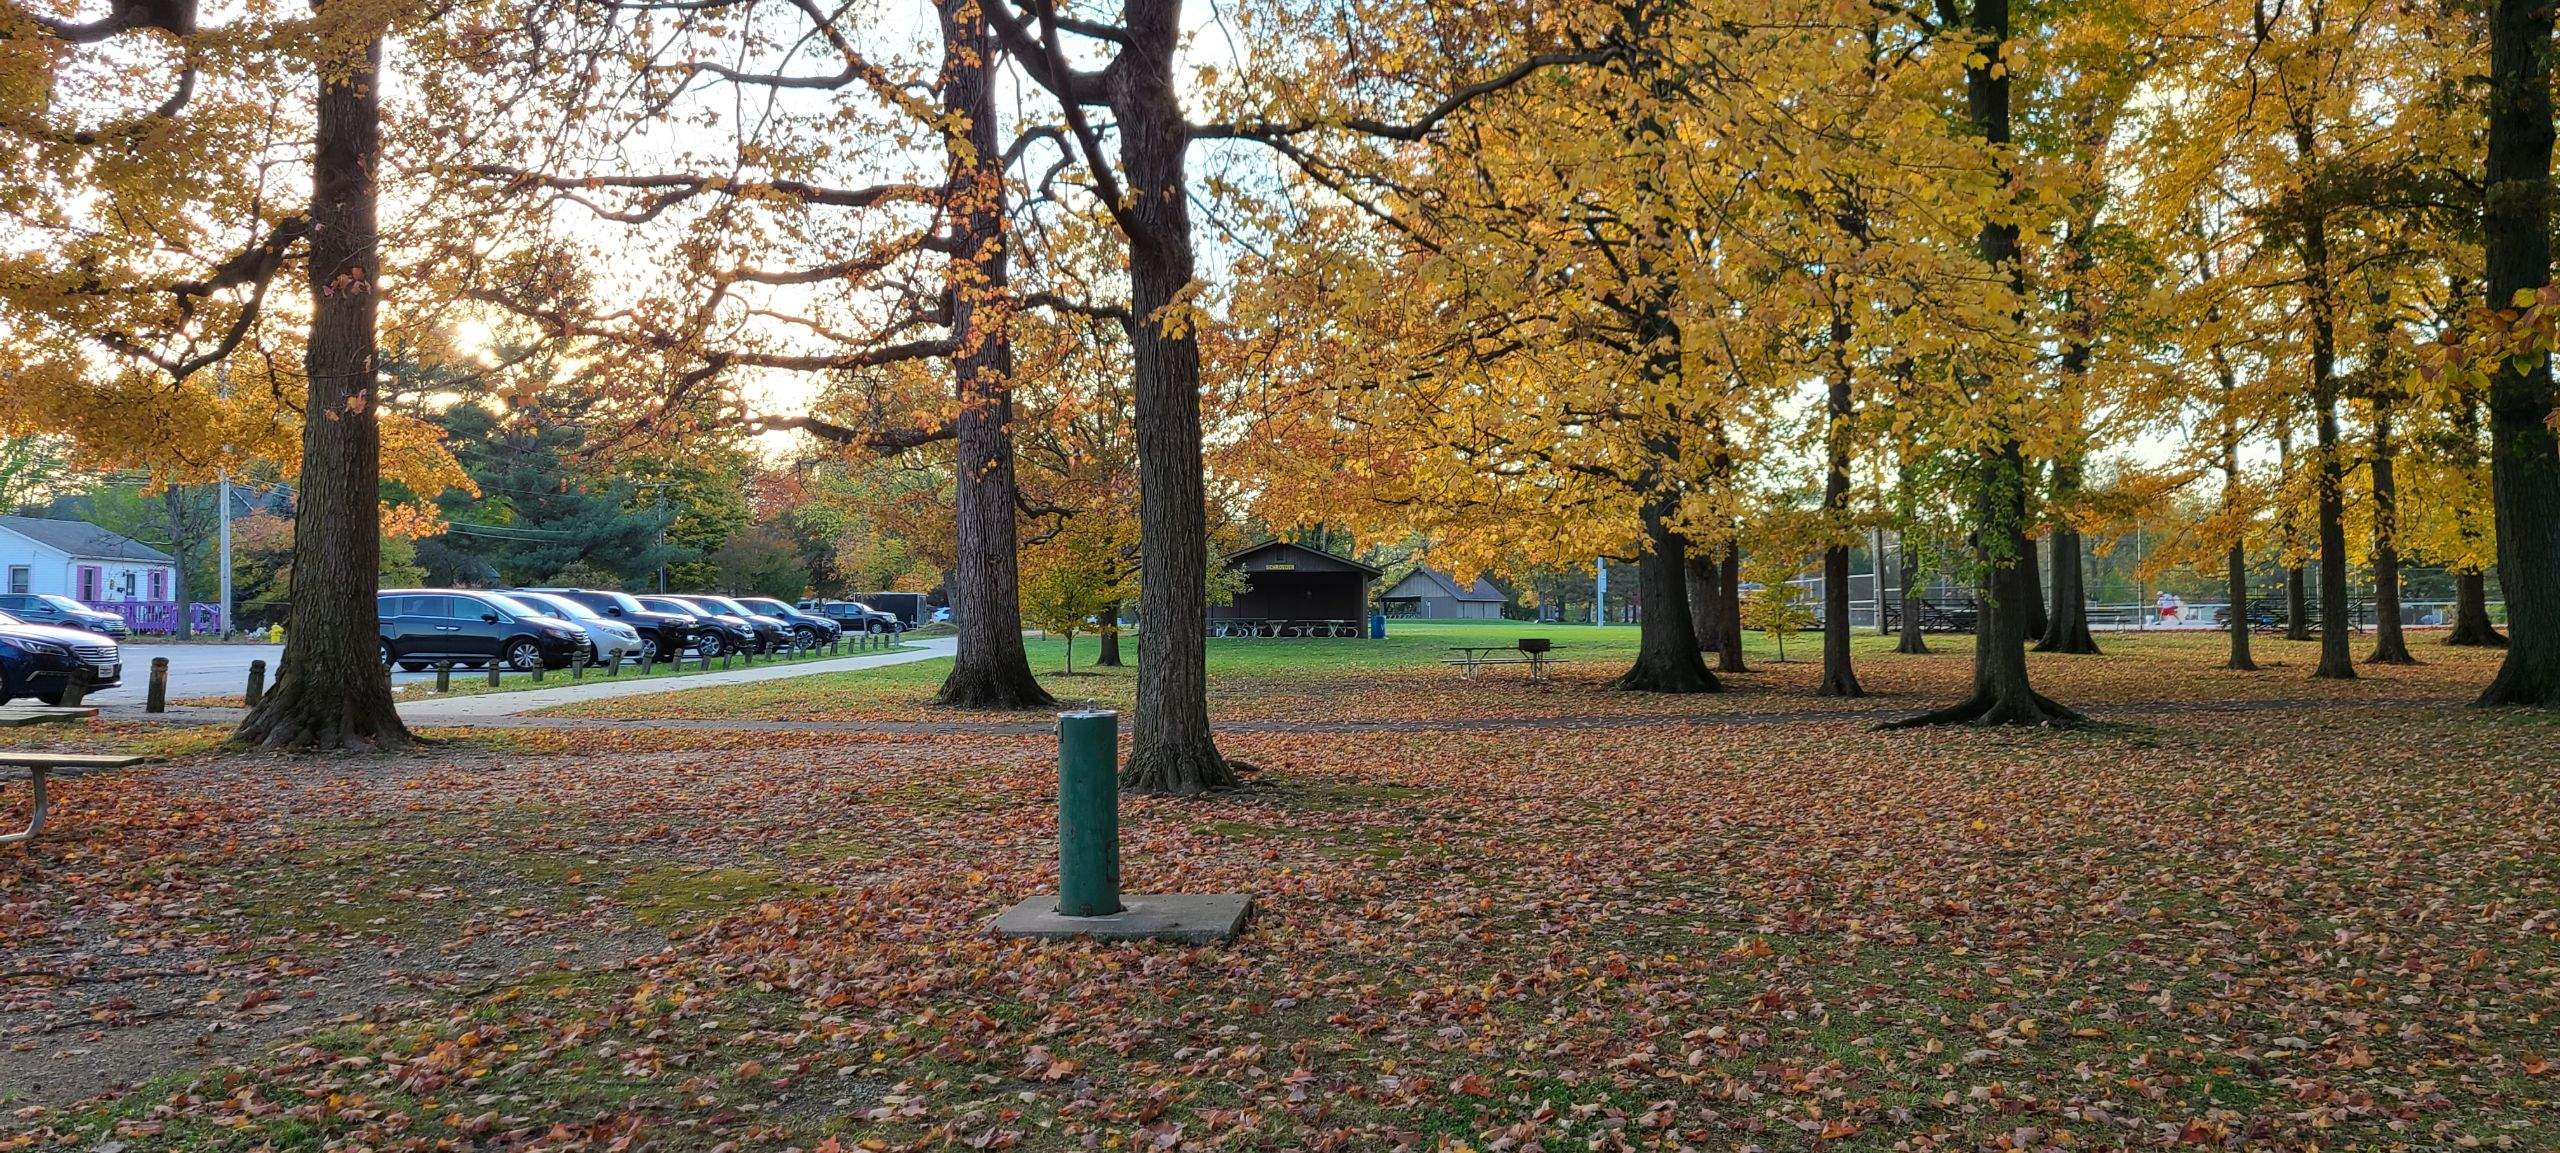tree: (237, 2, 429, 748), (918, 2, 1064, 709), (1582, 2, 1731, 701), (1107, 2, 1233, 790), (1954, 2, 2056, 728), (2472, 2, 2560, 710), (2429, 51, 2500, 643), (1887, 52, 1953, 658), (1812, 23, 1869, 706), (2033, 105, 2101, 665), (2310, 2, 2362, 684), (2194, 194, 2260, 668), (2376, 126, 2415, 673), (2269, 216, 2315, 653), (1714, 354, 1752, 673), (1096, 292, 1125, 670)
